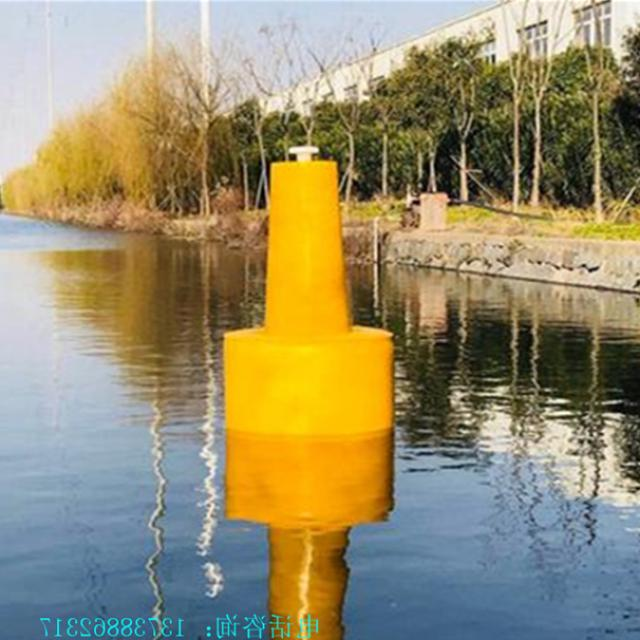buoy: (216, 142, 401, 450)
